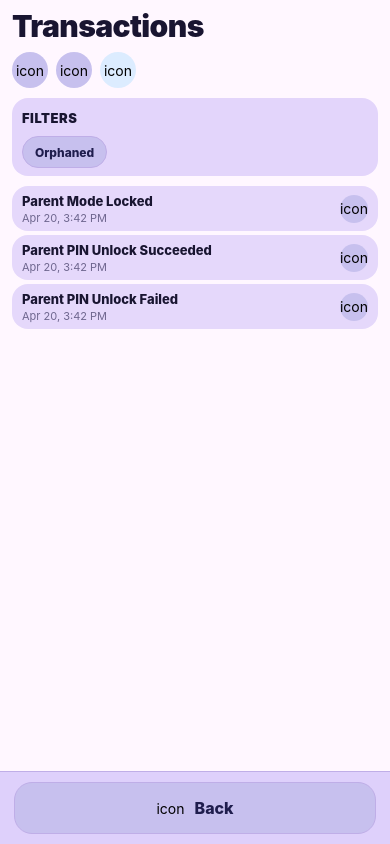
Test: TransactionsScreen › shows parent session audit entries without restore actions
Expected: the text with test id "transaction-summary-0" reads "Parent Mode Locked", [22,193,153,209]
Expected: the text with test id "transaction-summary-1" reads "Parent PIN Unlock Succeeded", [22,242,212,258]
Click the button with aria-label "Expand Parent Mode Locked": [87, 201] box [22,192,368,225]
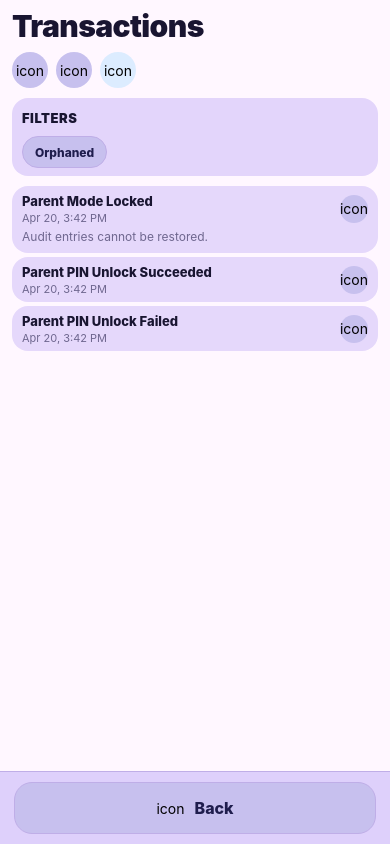
Result: the text "Audit entries cannot be restored." is shown at [22,229,208,244]
